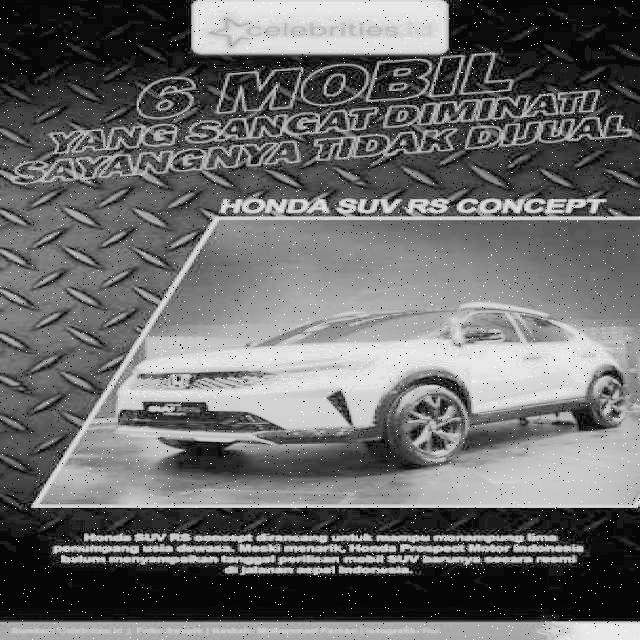Car: (113, 309, 623, 455)
